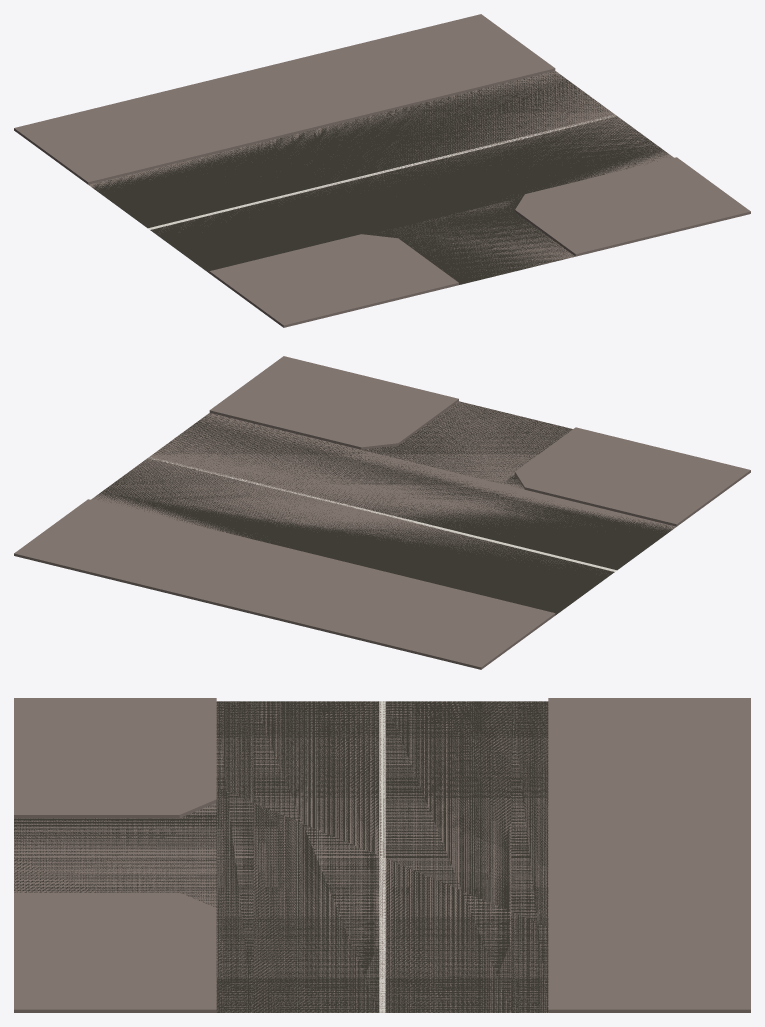
Rendered from Env_1lane_To_Street.fbx.
3 renders of one model, top to bottom at view 1: azimuth 30°, elevation 25°; view 2: azimuth 150°, elevation 25°; view 3: azimuth 270°, elevation 25°, orthographic. The views are drawn at different scales.
Visible parts, largest first — view 1: Env_1lane_To_Street; view 2: Env_1lane_To_Street; view 3: Env_1lane_To_Street.
Part boxes in pixels (left/top/right/bottom): Env_1lane_To_Street: left=14, top=14, right=750, bottom=327; Env_1lane_To_Street: left=14, top=356, right=750, bottom=669; Env_1lane_To_Street: left=14, top=698, right=750, bottom=1012.
Size of the model in its own units: 2000 by 10 by 2000.
